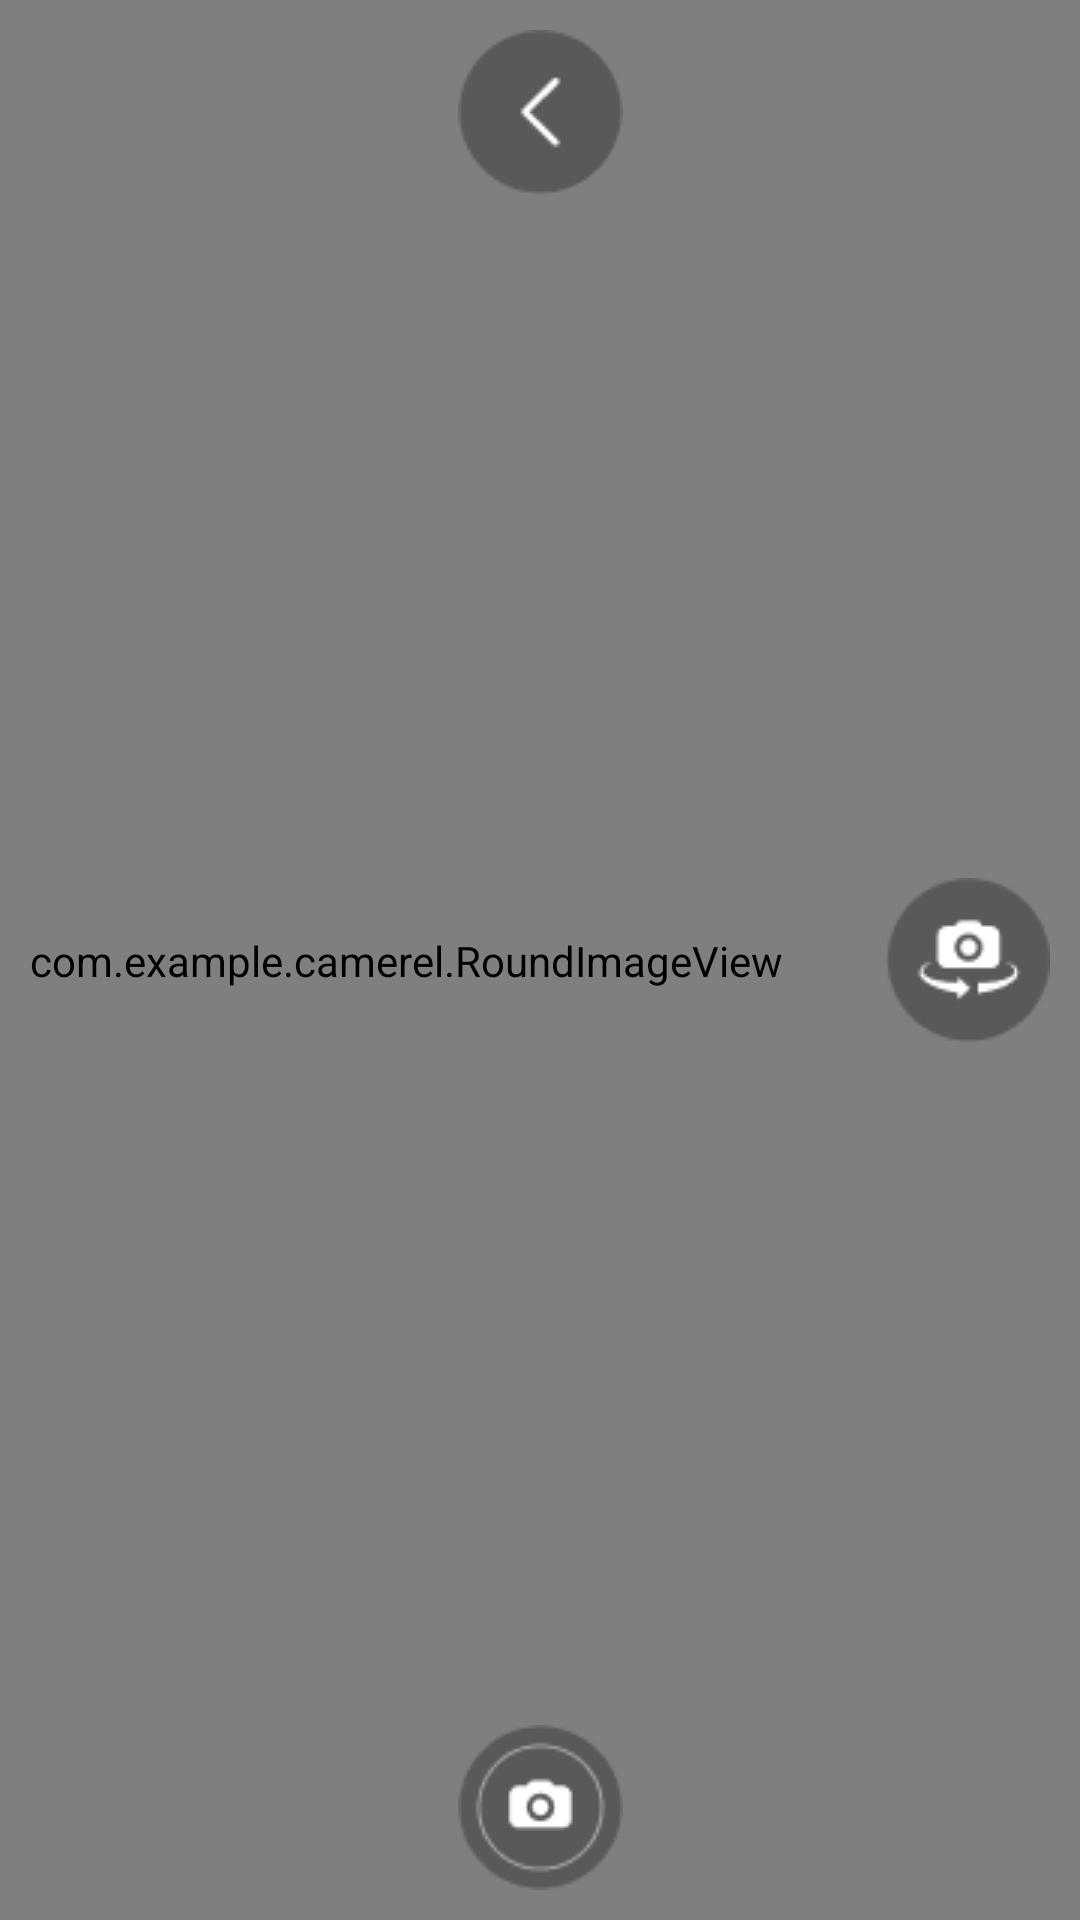

Icon click points for this 1080x1920 phone screenshot, format point (x, y):
back: point (540, 111)
exchange: point (969, 959)
take: point (540, 1807)
